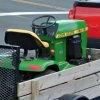tractors: (0, 13, 91, 81)
